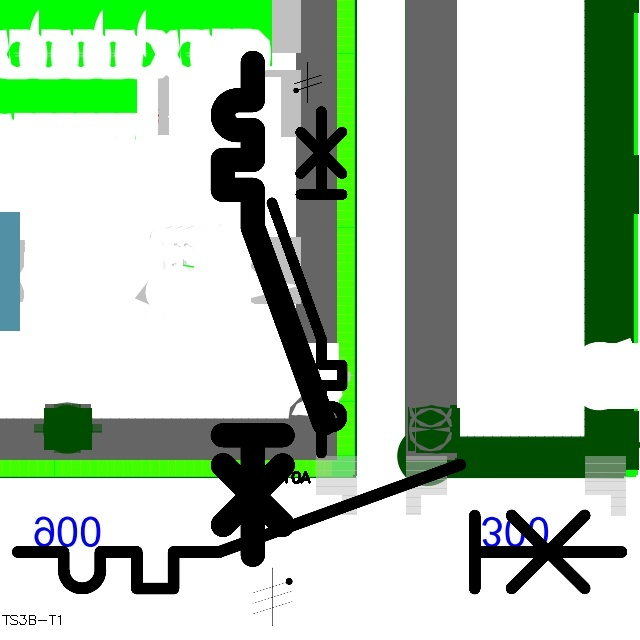interruptor_termomagnetico: (2, 449, 637, 604), (210, 50, 336, 567), (263, 102, 351, 461)
